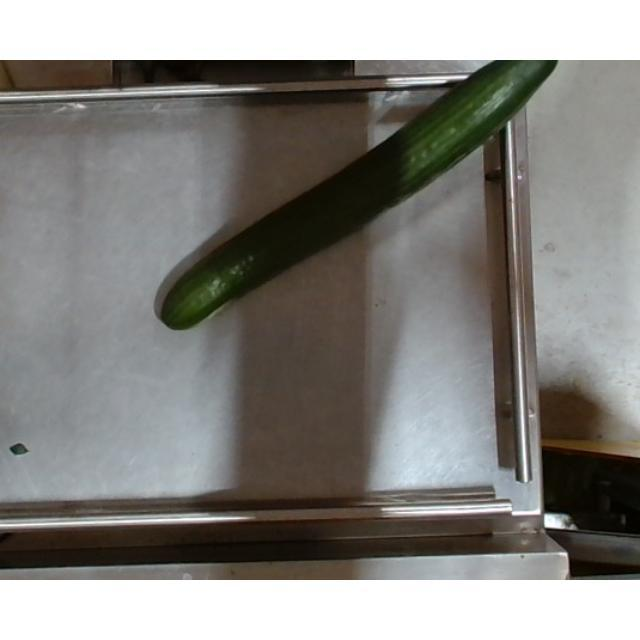cucumber: (159, 60, 559, 330)
